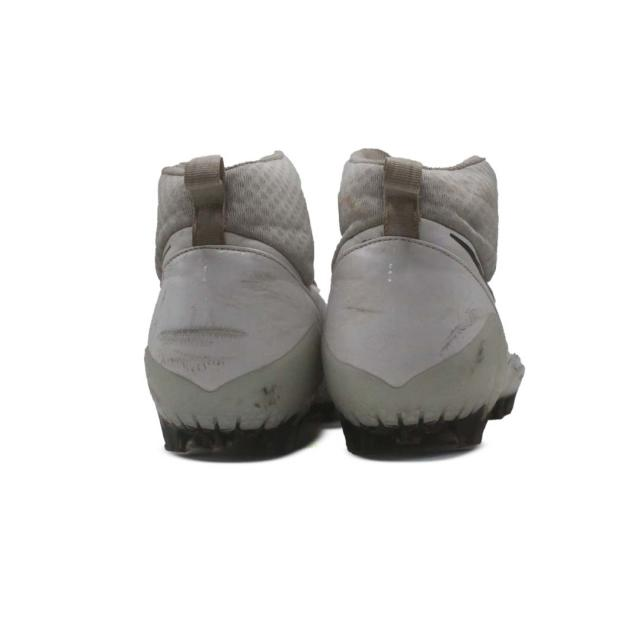heel: (148, 157, 320, 393), (331, 151, 493, 387)
midsole: (144, 317, 323, 453), (328, 319, 500, 458)
